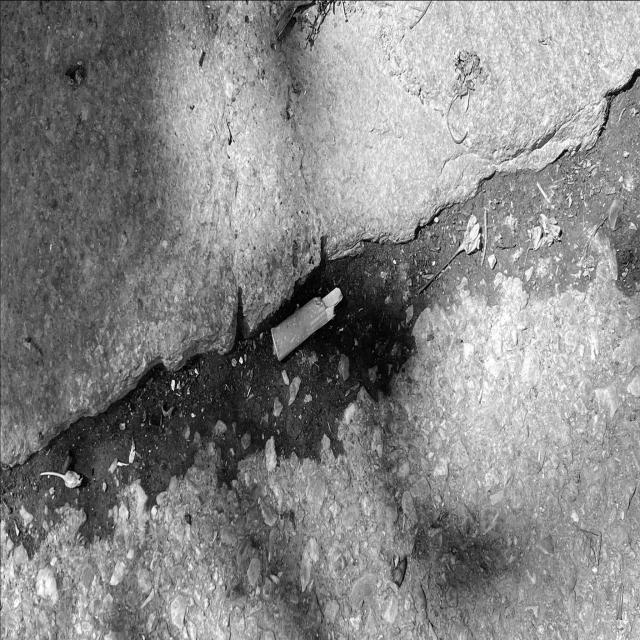other waste: (270, 286, 343, 363)
